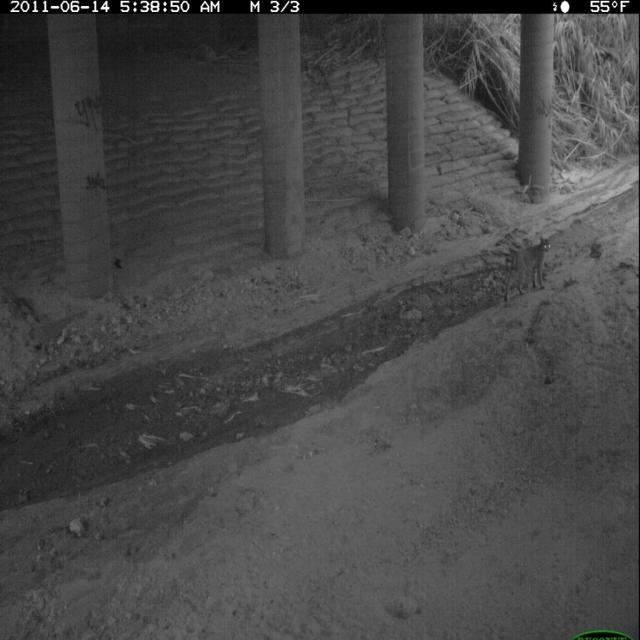bobcat: (501, 233, 555, 307)
